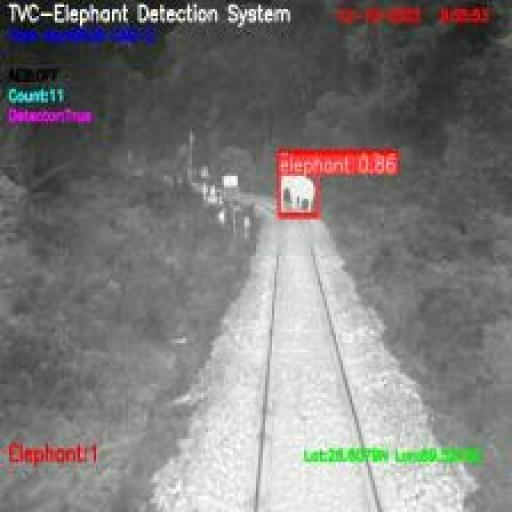Elephant: (279, 174, 318, 217)
